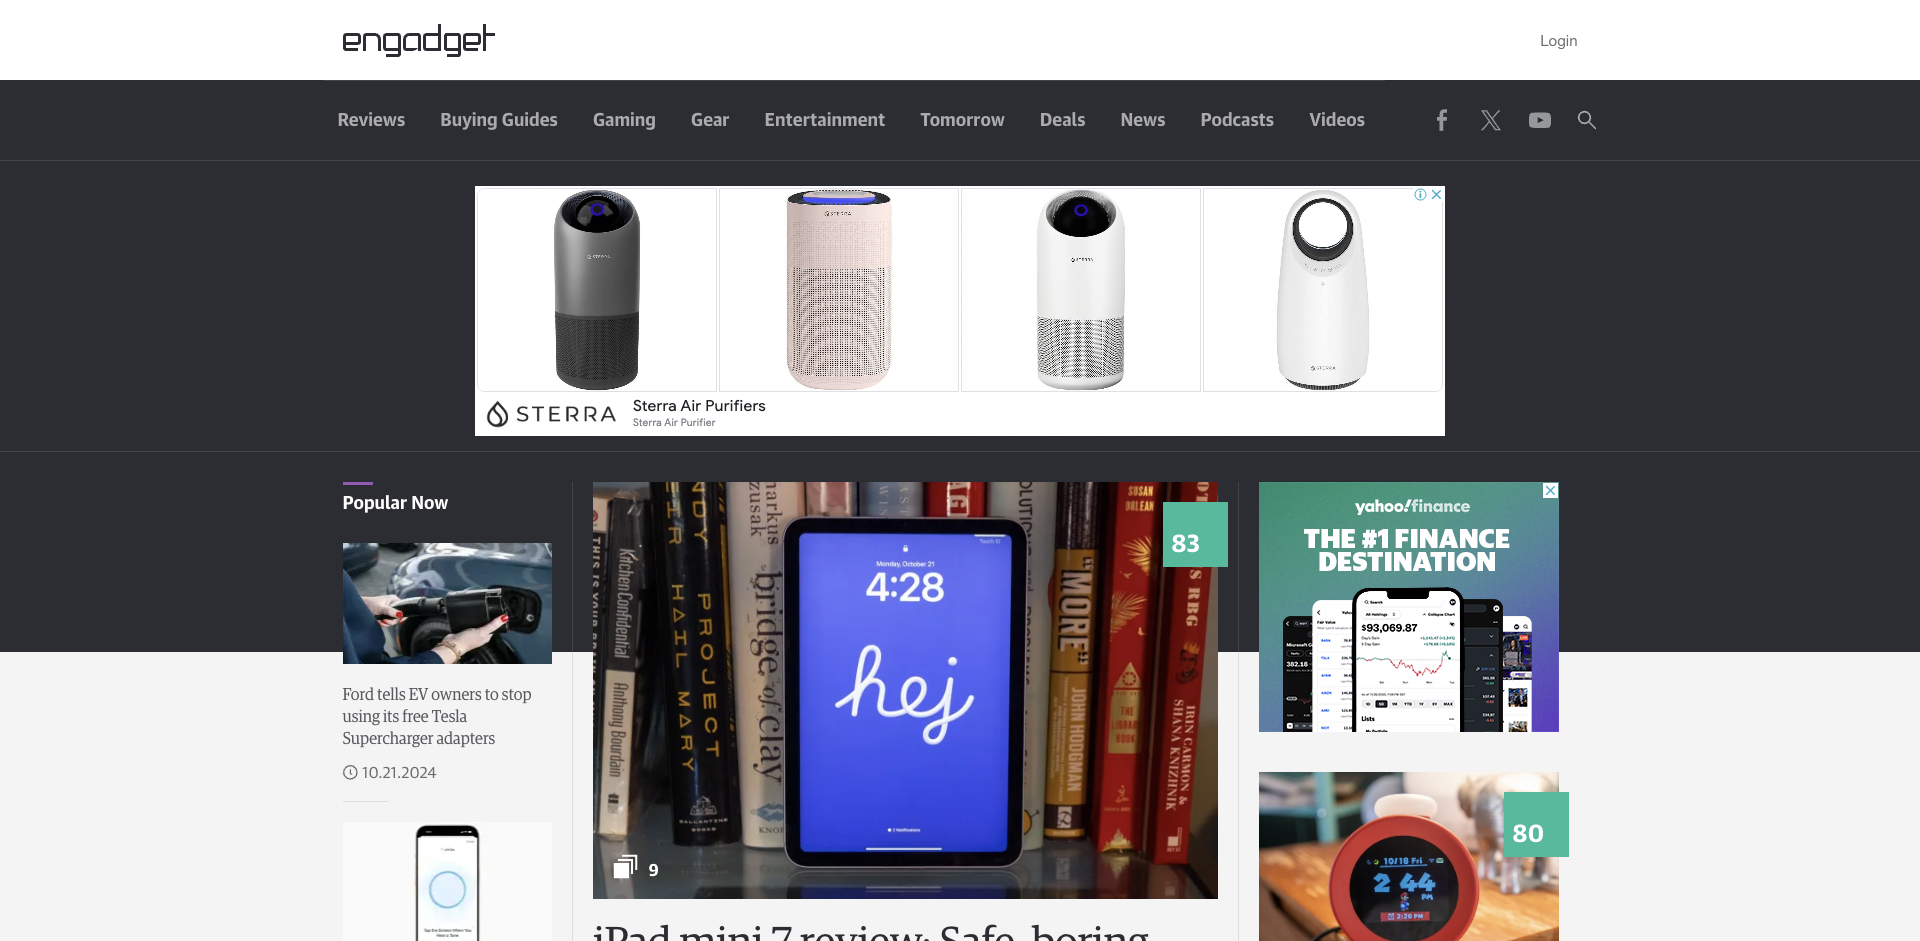button: (343, 108, 382, 132), (1551, 105, 1582, 135), (1577, 110, 1597, 130)
input: (382, 108, 1551, 132)
link: (594, 482, 1218, 899), (1259, 772, 1559, 941), (343, 543, 552, 780), (343, 822, 552, 941), (749, 80, 905, 161), (425, 80, 578, 161), (594, 923, 1162, 941), (905, 80, 1025, 161), (1185, 80, 1294, 161), (322, 80, 425, 161), (578, 80, 676, 161), (1294, 80, 1385, 161), (1025, 80, 1106, 161), (1106, 80, 1185, 161), (676, 80, 749, 161), (343, 23, 495, 56), (1540, 32, 1577, 49), (1479, 116, 1504, 132), (1528, 116, 1553, 132), (1430, 116, 1453, 132), (0, 31, 5, 62), (0, 124, 5, 156), (0, 248, 5, 279), (0, 0, 5, 31), (0, 62, 5, 93), (0, 93, 5, 124), (0, 156, 5, 186), (0, 186, 5, 217), (0, 217, 5, 248), (0, 279, 5, 310), (0, 310, 5, 341)
